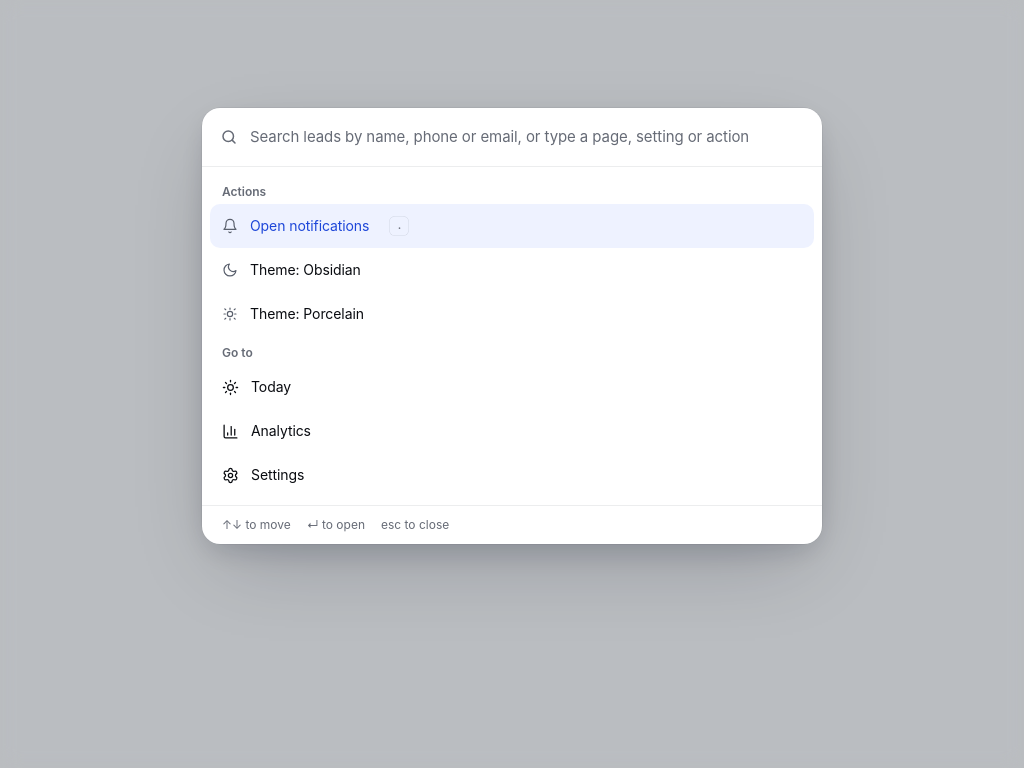
Search LUME (Ctrl K) › never offers what the role can't open, nor looks up leads without leads.view
This screenshot has width=1024, height=768.
Type "kedar" into the dropdown at (526, 136), box [248,108,804,166]
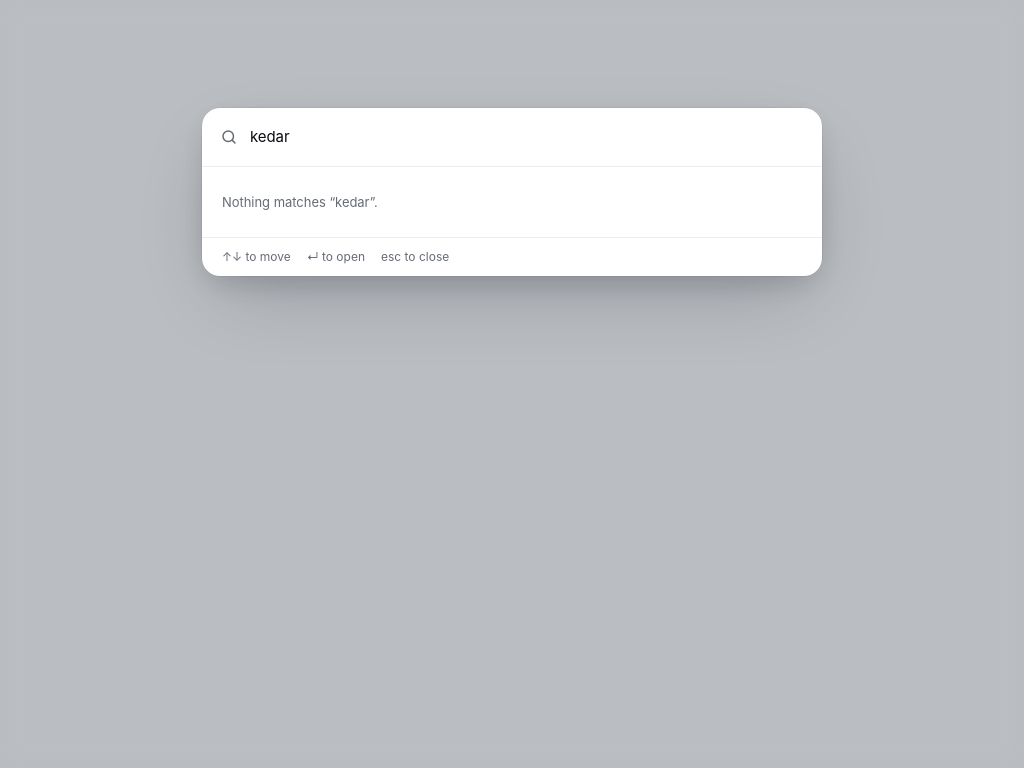
Check: the message reads "Nothing matches “kedar”.", box [222,194,378,210]
